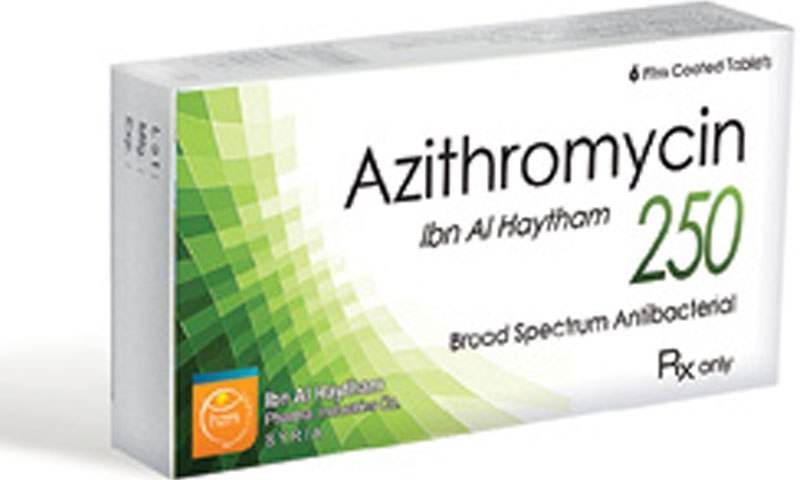Medicine: (91, 4, 800, 480)
